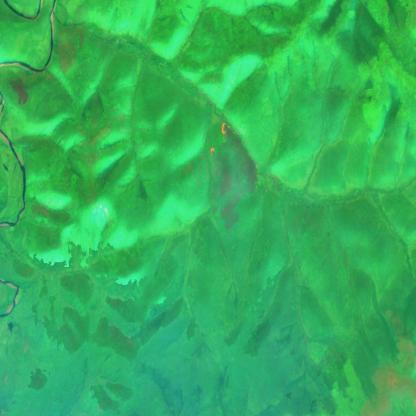fire: (208, 120, 235, 156)
